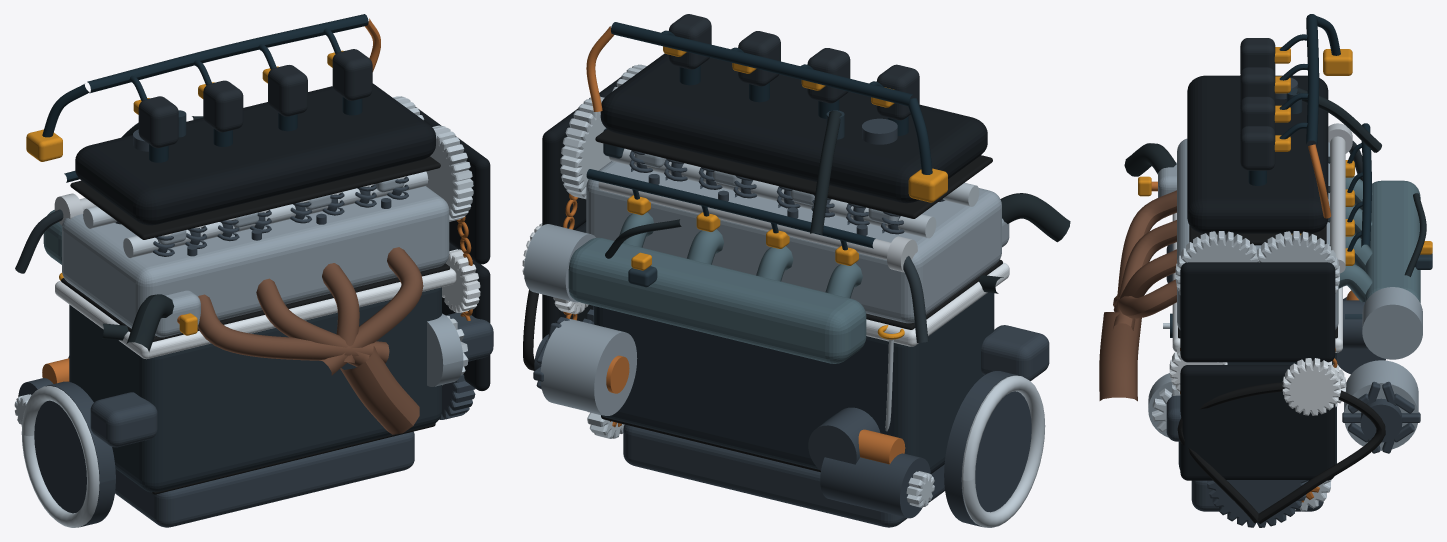
The model's file is generic_inline4_engine.glb.
3 views of the same model, side by side, from view 1: azimuth 30°, elevation 25°; view 2: azimuth 150°, elevation 25°; view 3: azimuth 270°, elevation 25° (orthographic). The views are drawn at different scales.
Visible parts, largest first — view 1: asset_mesh__engine_block__outer_casting, asset_mesh__cylinder_head__casting, asset_mesh__valve_cover__shell, asset_mesh__oil_pan__sump, asset_mesh__flywheel__disc, asset_mesh__valve_cover_gasket__perimeter, asset_mesh__engine_block__deck, asset_mesh__flywheel__ring_gear, asset_mesh__exhaust_manifold__primary_1, asset_mesh__ignition_harness__main_loom, asset_mesh__exhaust_manifold__collector, asset_mesh__exhaust_manifold__primary_4 (+25 smaller); view 2: asset_mesh__engine_block__outer_casting, asset_mesh__valve_cover__shell, asset_mesh__cylinder_head__casting, asset_mesh__intake_manifold__plenum, asset_mesh__oil_pan__sump, asset_mesh__flywheel__disc, asset_mesh__alternator__stator_housing, asset_mesh__valve_cover_gasket__perimeter, asset_mesh__flywheel__ring_gear, asset_mesh__starter_motor__motor_body, asset_mesh__ignition_harness__main_loom, asset_mesh__throttle_body__bore (+32 smaller); view 3: asset_mesh__valve_cover__shell, asset_mesh__timing_cover_upper__upper, asset_mesh__timing_cover_lower__lower, asset_mesh__intake_manifold__plenum, asset_mesh__accessory_belt__serpentine_route, asset_mesh__throttle_body__bore, asset_mesh__exhaust_manifold__collector, asset_mesh__crank_pulley__damper, asset_mesh__accessory_tensioner__pulley, asset_mesh__alternator__stator_housing, asset_mesh__cam_sprockets_context__exhaust, asset_mesh__cam_sprockets_context__intake (+34 smaller).
Boxes of the visible parts, x1,y1,x2,y2 form: asset_mesh__engine_block__outer_casting: (69, 287, 441, 492); asset_mesh__cylinder_head__casting: (62, 186, 449, 336); asset_mesh__valve_cover__shell: (75, 83, 435, 225); asset_mesh__oil_pan__sump: (115, 431, 414, 527); asset_mesh__flywheel__disc: (34, 381, 115, 526); asset_mesh__valve_cover_gasket__perimeter: (70, 156, 440, 239); asset_mesh__engine_block__deck: (55, 267, 456, 359); asset_mesh__flywheel__ring_gear: (21, 386, 99, 527); asset_mesh__exhaust_manifold__primary_1: (198, 294, 389, 363); asset_mesh__ignition_harness__main_loom: (87, 14, 368, 93); asset_mesh__exhaust_manifold__collector: (340, 346, 419, 434); asset_mesh__exhaust_manifold__primary_4: (320, 247, 423, 375); asset_mesh__engine_block__outer_casting: (594, 292, 994, 473); asset_mesh__valve_cover__shell: (600, 53, 987, 203); asset_mesh__cylinder_head__casting: (586, 161, 1001, 323); asset_mesh__intake_manifold__plenum: (568, 237, 866, 363); asset_mesh__oil_pan__sump: (623, 424, 944, 527); asset_mesh__flywheel__disc: (944, 371, 1031, 526); asset_mesh__alternator__stator_housing: (540, 319, 637, 415); asset_mesh__valve_cover_gasket__perimeter: (595, 129, 992, 218); asset_mesh__flywheel__ring_gear: (961, 375, 1045, 527); asset_mesh__starter_motor__motor_body: (820, 453, 930, 518); asset_mesh__ignition_harness__main_loom: (611, 22, 912, 106); asset_mesh__throttle_body__bore: (524, 224, 595, 302); asset_mesh__valve_cover__shell: (1187, 75, 1328, 233); asset_mesh__timing_cover_upper__upper: (1180, 262, 1335, 362); asset_mesh__timing_cover_lower__lower: (1180, 365, 1335, 480); asset_mesh__intake_manifold__plenum: (1365, 180, 1420, 303); asset_mesh__accessory_belt__serpentine_route: (1177, 382, 1385, 523); asset_mesh__throttle_body__bore: (1362, 287, 1422, 359); asset_mesh__exhaust_manifold__collector: (1099, 312, 1141, 401); asset_mesh__crank_pulley__damper: (1207, 480, 1308, 527); asset_mesh__accessory_tensioner__pulley: (1282, 358, 1340, 415); asset_mesh__alternator__stator_housing: (1344, 360, 1418, 450); asset_mesh__cam_sprockets_context__exhaust: (1175, 231, 1259, 294); asset_mesh__cam_sprockets_context__intake: (1257, 231, 1339, 293).
Size of the model in its own units: 5.08 by 4.84 by 3.83.
